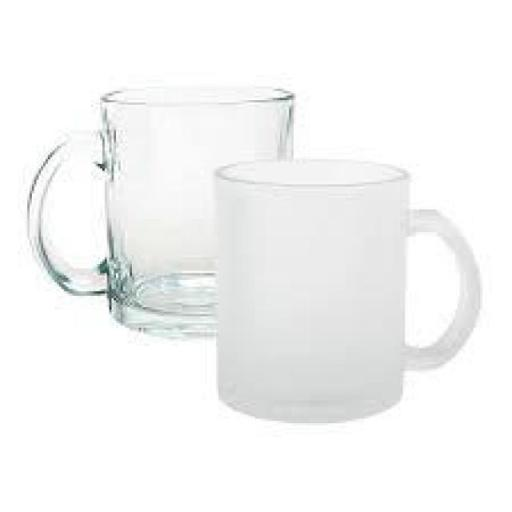glass: (10, 70, 317, 348), (196, 150, 488, 440)
